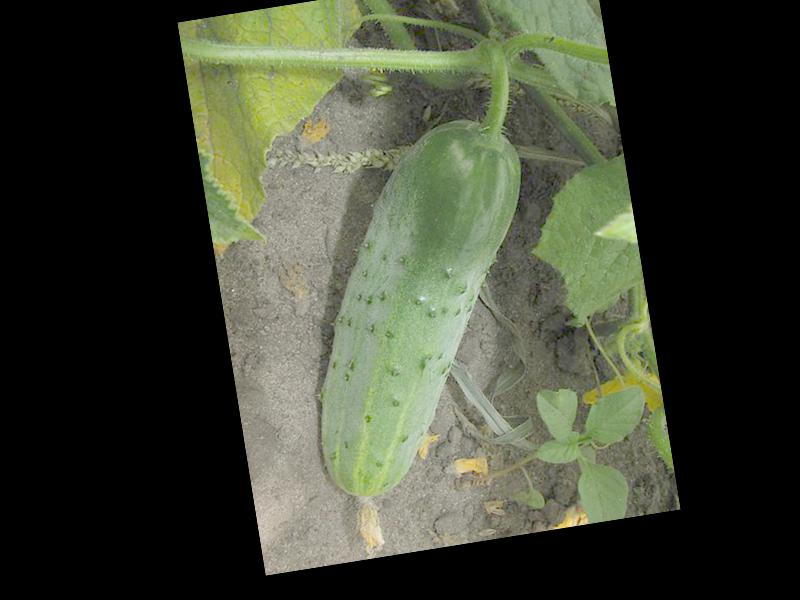Cucumber: (272, 112, 576, 558)
